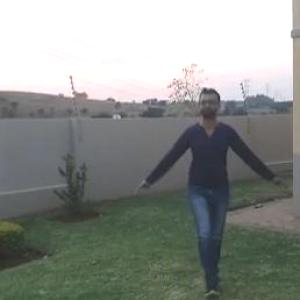land: (153, 101, 256, 247)
